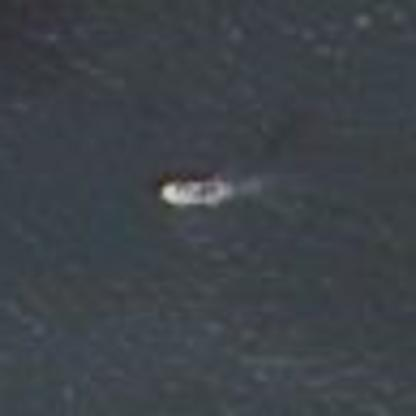ship: (148, 169, 243, 211)
